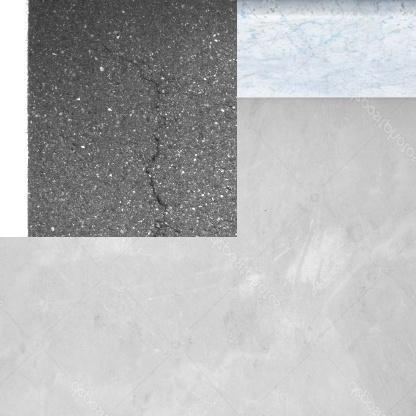Cracks: (79, 34, 157, 219)
